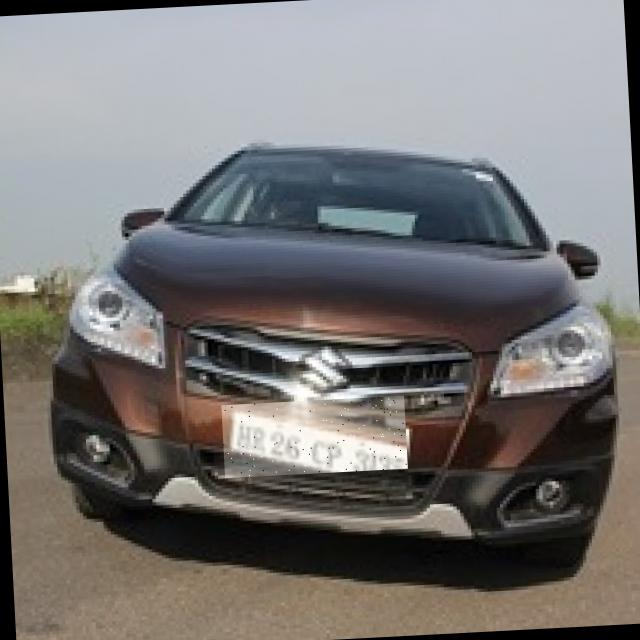Plate: (222, 397, 409, 479)
